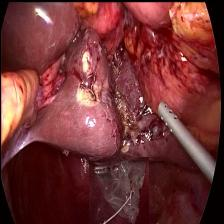Irrigator: (154, 92, 184, 140)
Specimen Bag: (88, 156, 148, 224)
